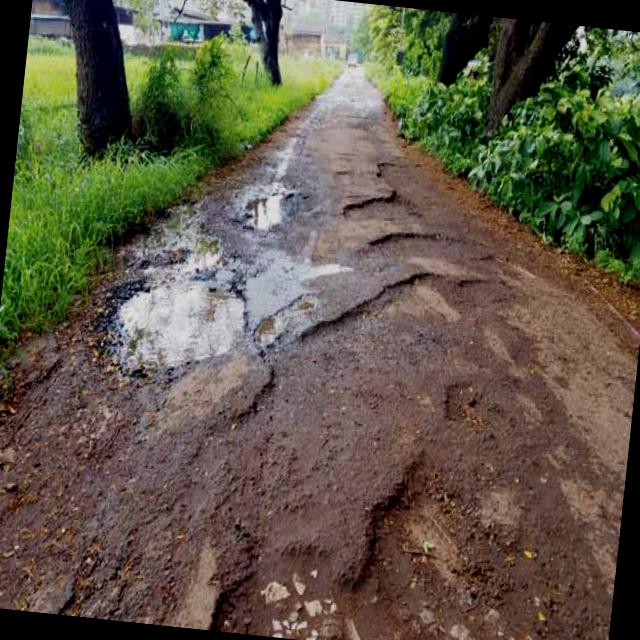bad-road: (209, 430, 581, 640), (92, 216, 255, 390), (298, 256, 509, 377), (341, 154, 444, 232), (368, 227, 498, 270), (238, 176, 300, 234), (438, 374, 481, 432), (251, 308, 281, 352)
